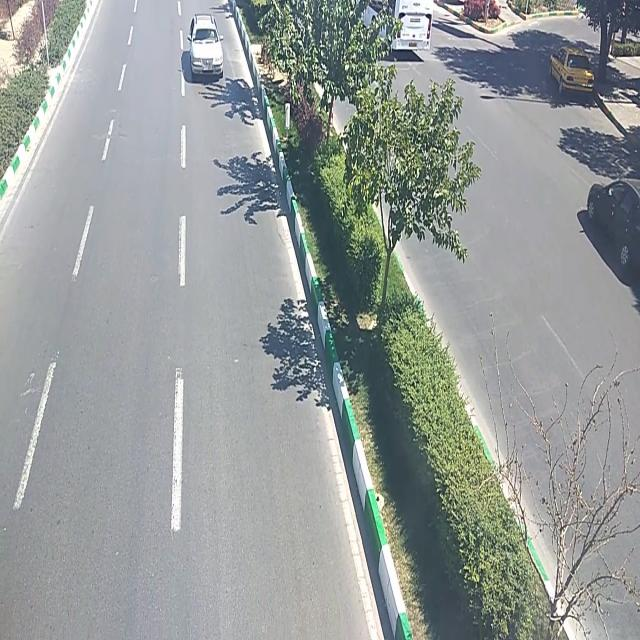bus: (358, 5, 438, 46)
car: (583, 175, 640, 278), (545, 48, 597, 100), (190, 15, 222, 79)
